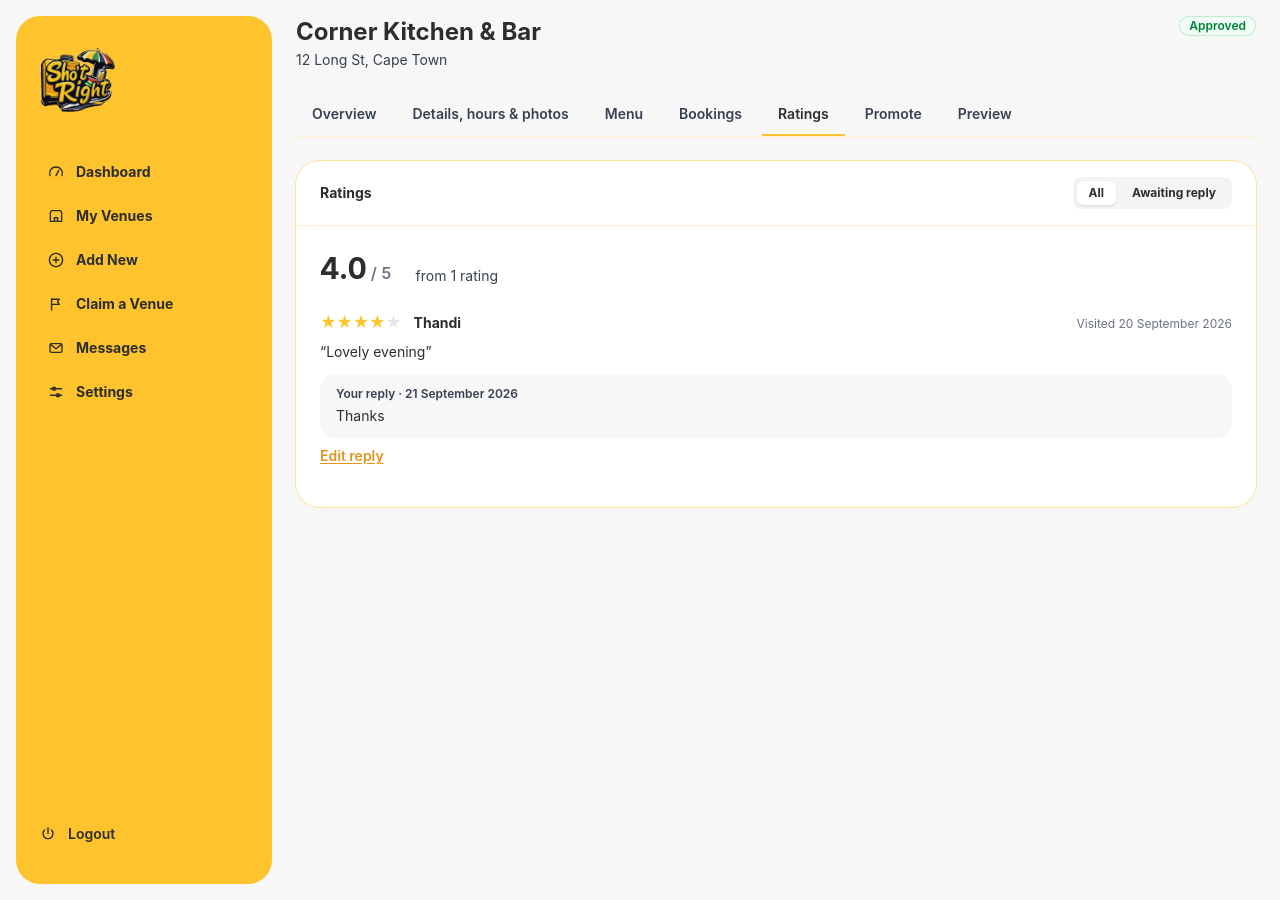
Test case: replying › edits an existing reply, prefilled
Click the button "Edit reply": (352, 456) [320,446,384,466]
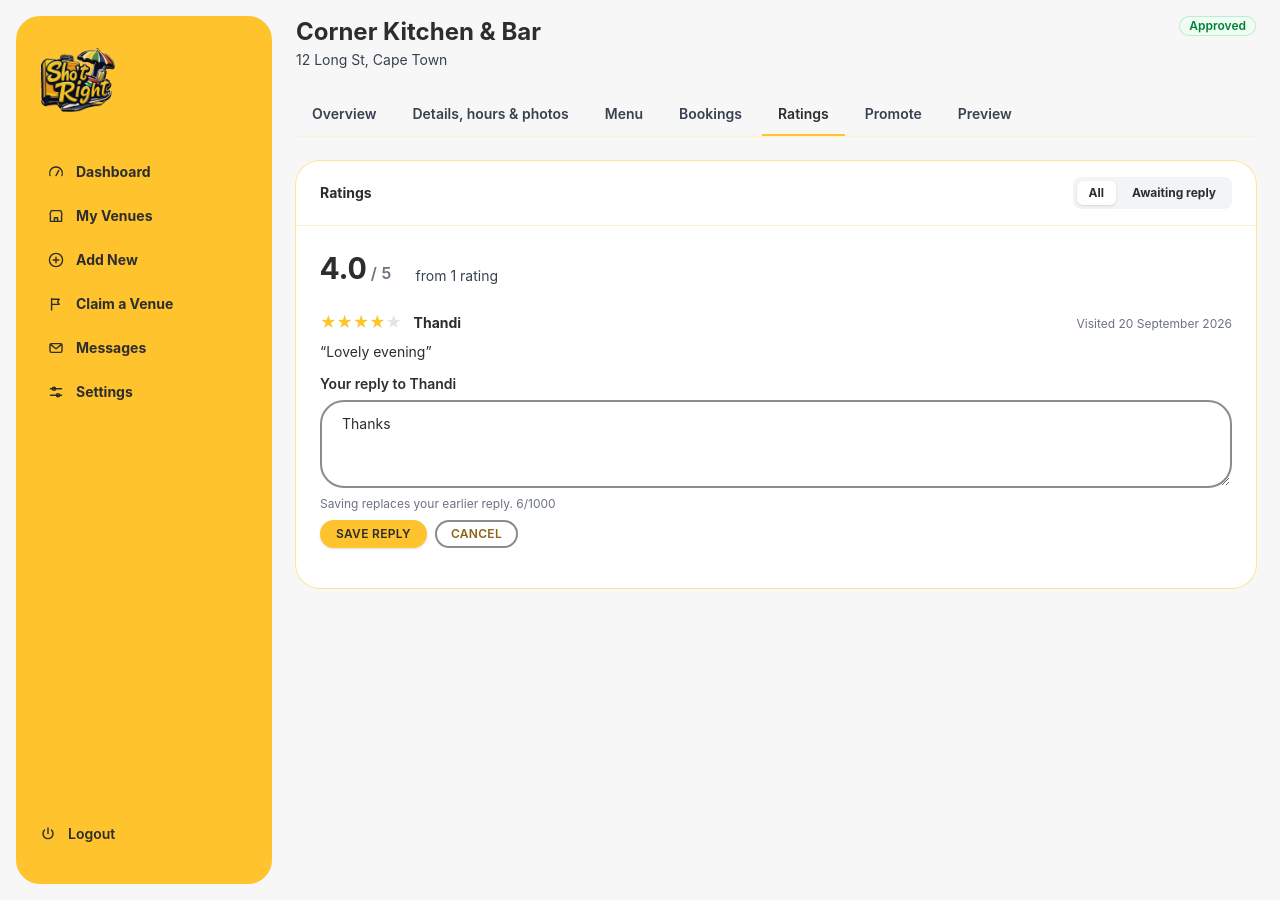
Check: the text box labelled "Your reply to Thandi" holds "Thanks"
Check: the text "Saving replaces your earlier reply. 6/1000" is shown, box [320,496,556,511]
Replace the text in the text box labelled "Your reply to Thandi" with "Thanks — see you soon": (776, 444) [320,400,1232,488]
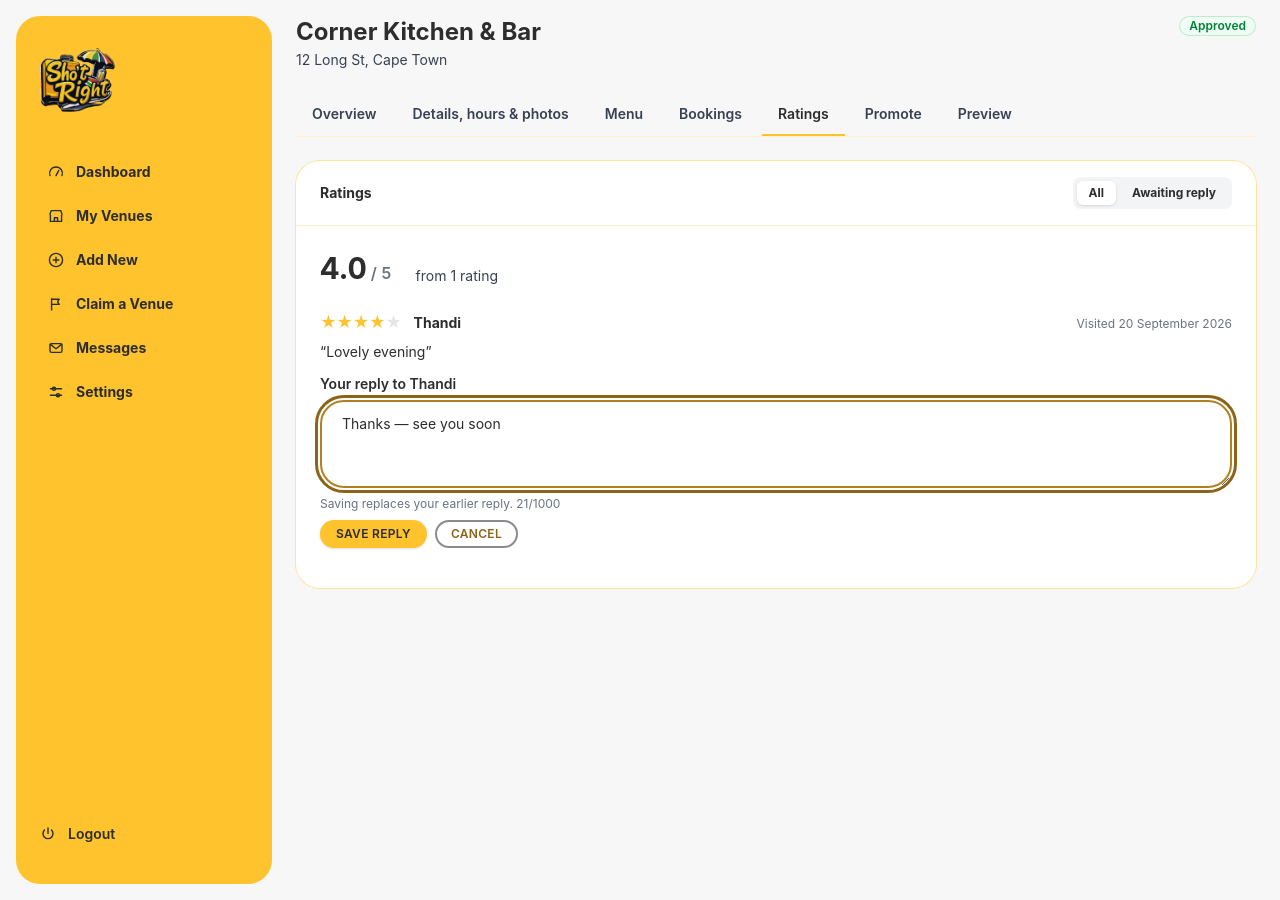
Click the button "Save reply": (373, 534) [320,520,427,548]
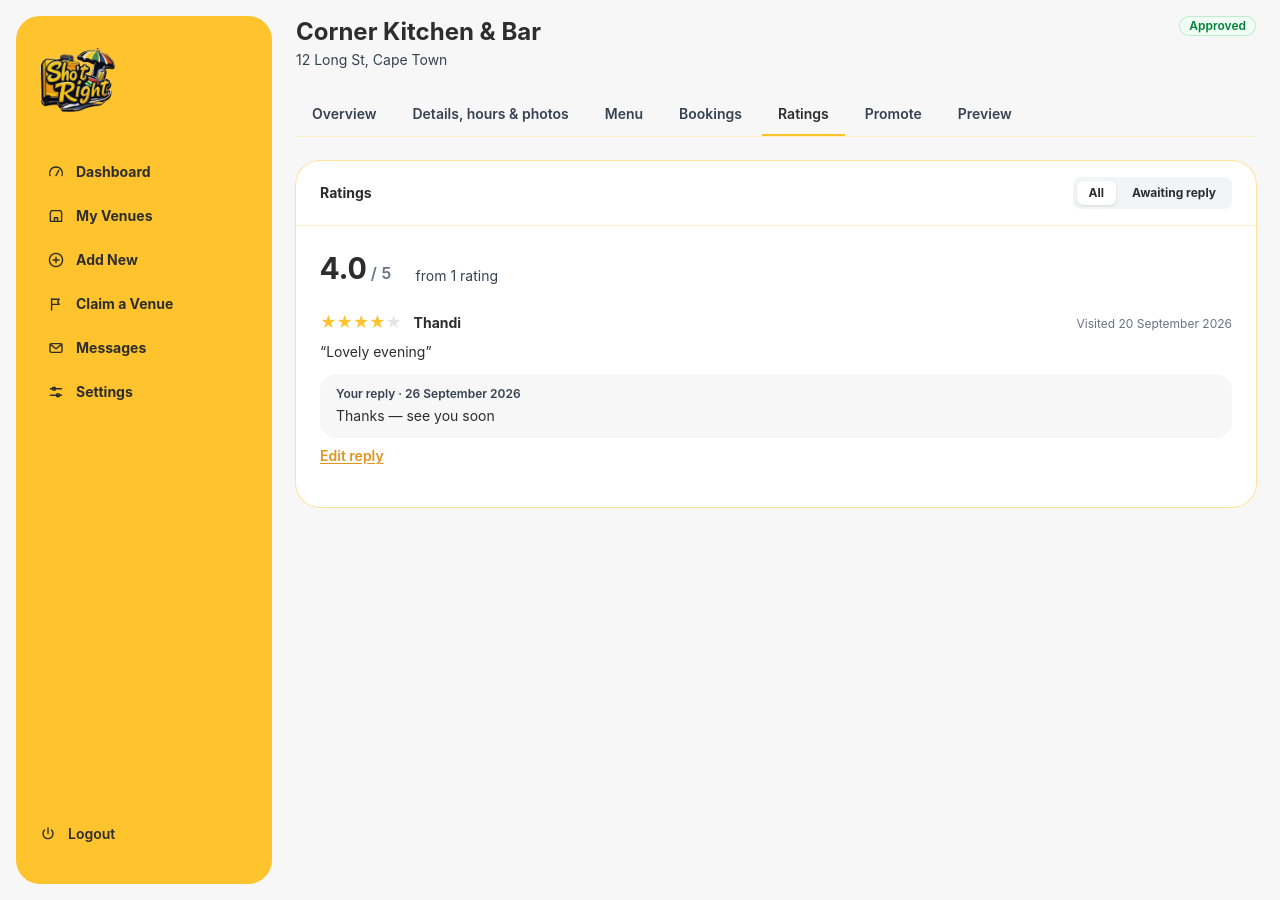
Check: the text "Thanks — see you soon" is shown, box [336,407,495,424]
